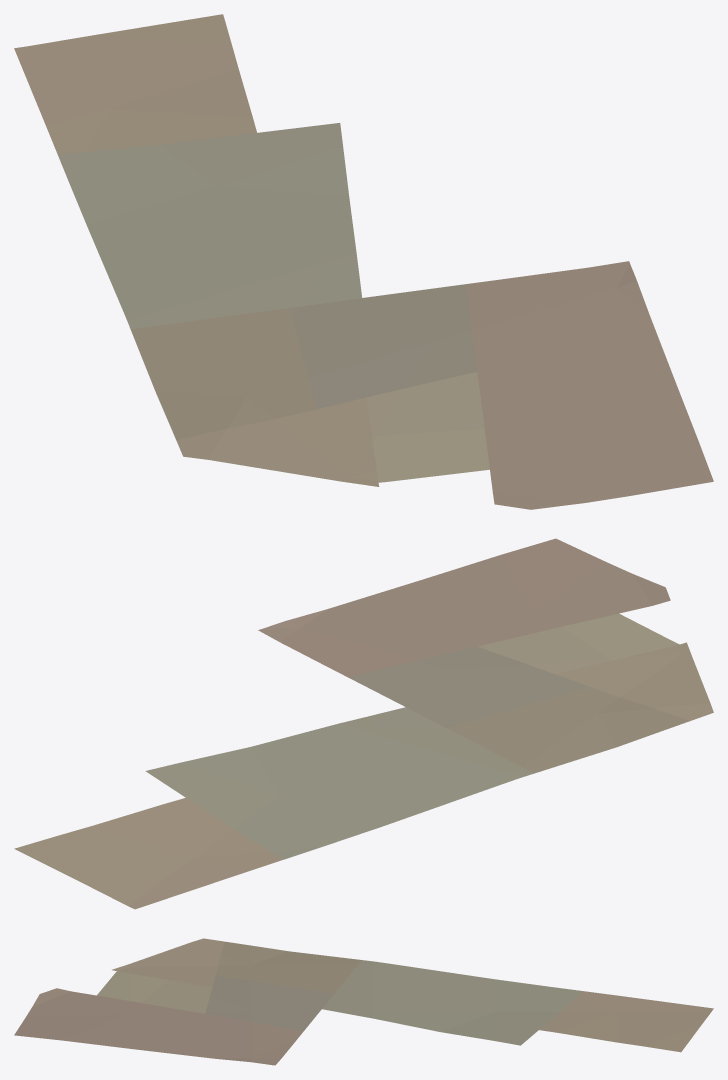
Rendered from farm_5_3_soil.glb.
3 renders of one model, top to bottom at view 1: azimuth 30°, elevation 25°; view 2: azimuth 150°, elevation 25°; view 3: azimuth 270°, elevation 25°, orthographic. The views are drawn at different scales.
Parts seen in each view (by area): view 1: geometry_0; view 2: geometry_0; view 3: geometry_0.
Boxes of the visible parts, x1=… form: geometry_0: x1=14, y1=14, x2=713, y2=509; geometry_0: x1=14, y1=538, x2=713, y2=909; geometry_0: x1=14, y1=938, x2=713, y2=1065.
Bounding box in the file's own units: 220 × 10.49 × 460.
